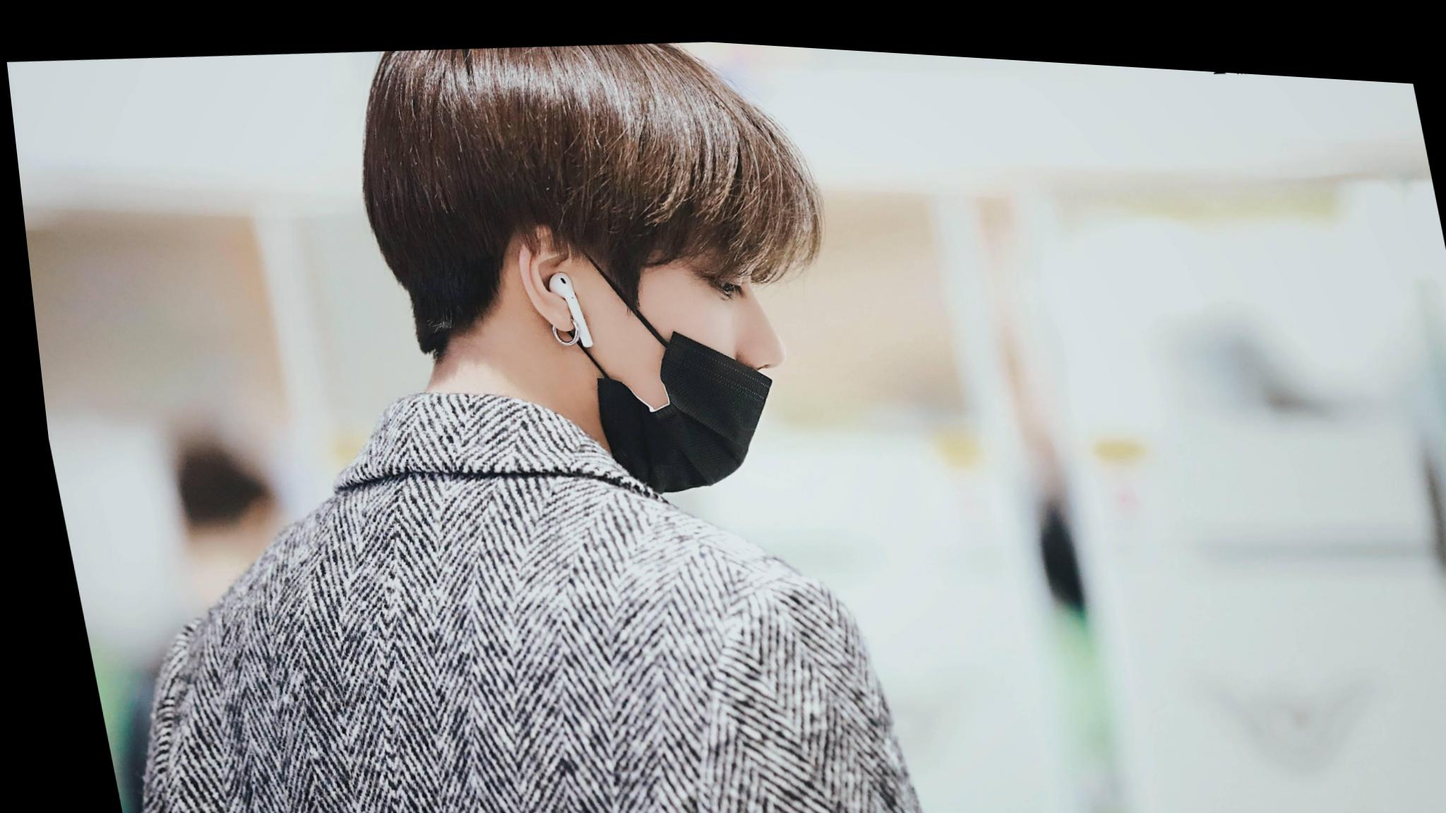WRONG: (564, 200, 803, 500)
